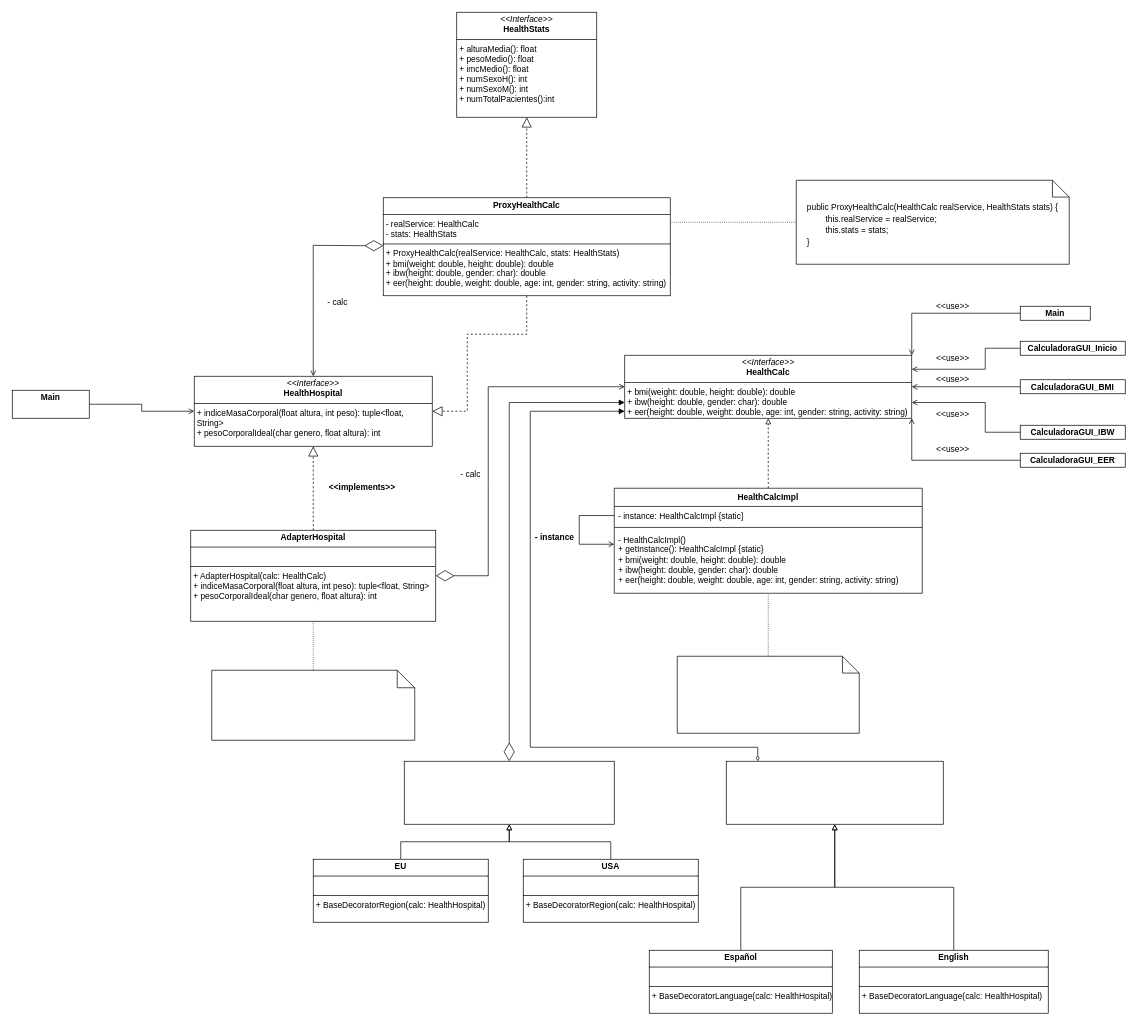
Some shapes in this 1138 by 1026 pixel diagram are drawn without their labels. The shapes that lost their labels are listed below. From the top down, each one's centre as x and y in pixels, then its label:
[313,705]: public AdapterHospital (HealthCalc calc) { this.calc = calc; }
[768,694]: if (instance==null) { instance = new HealthCalcImpl() } return instance;
[509,792]: BaseDecoratorRegion + BaseDecoratorRegion(HealthHospital)
[834,792]: BaseDecoratorLanguage + BaseDecoratorLanguage(HealthHospital)
